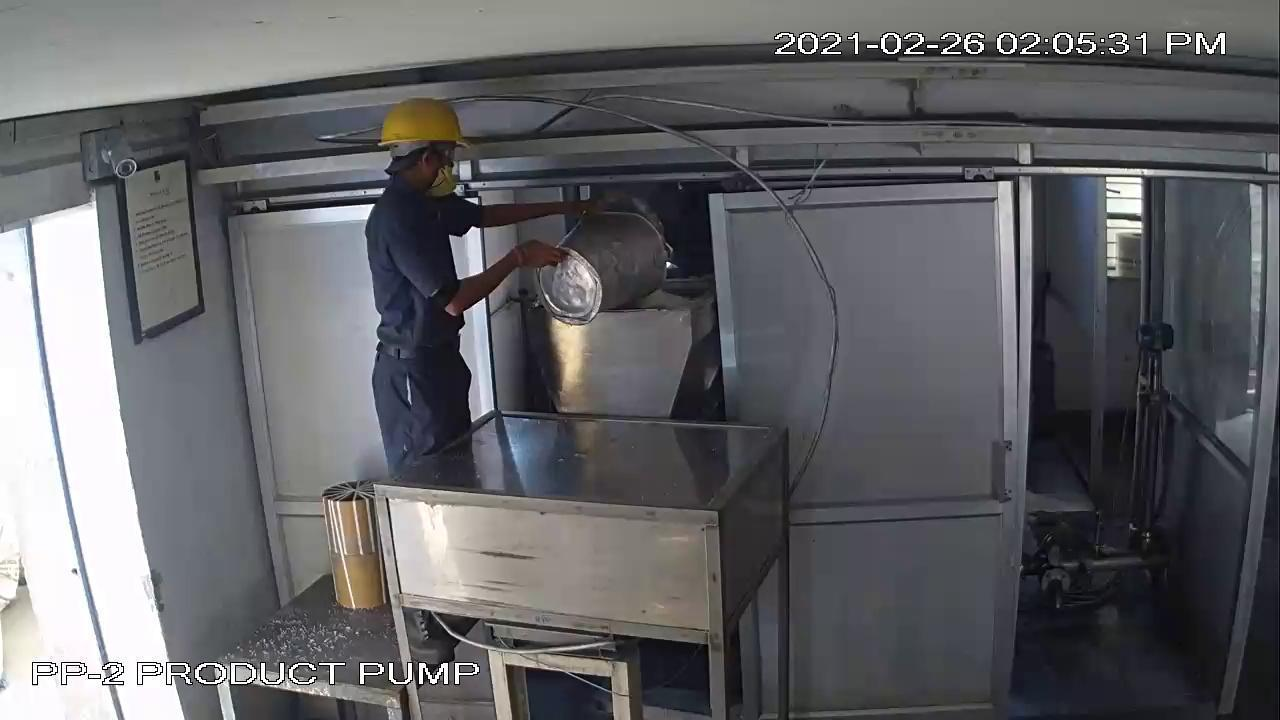helmet: (367, 88, 490, 163)
